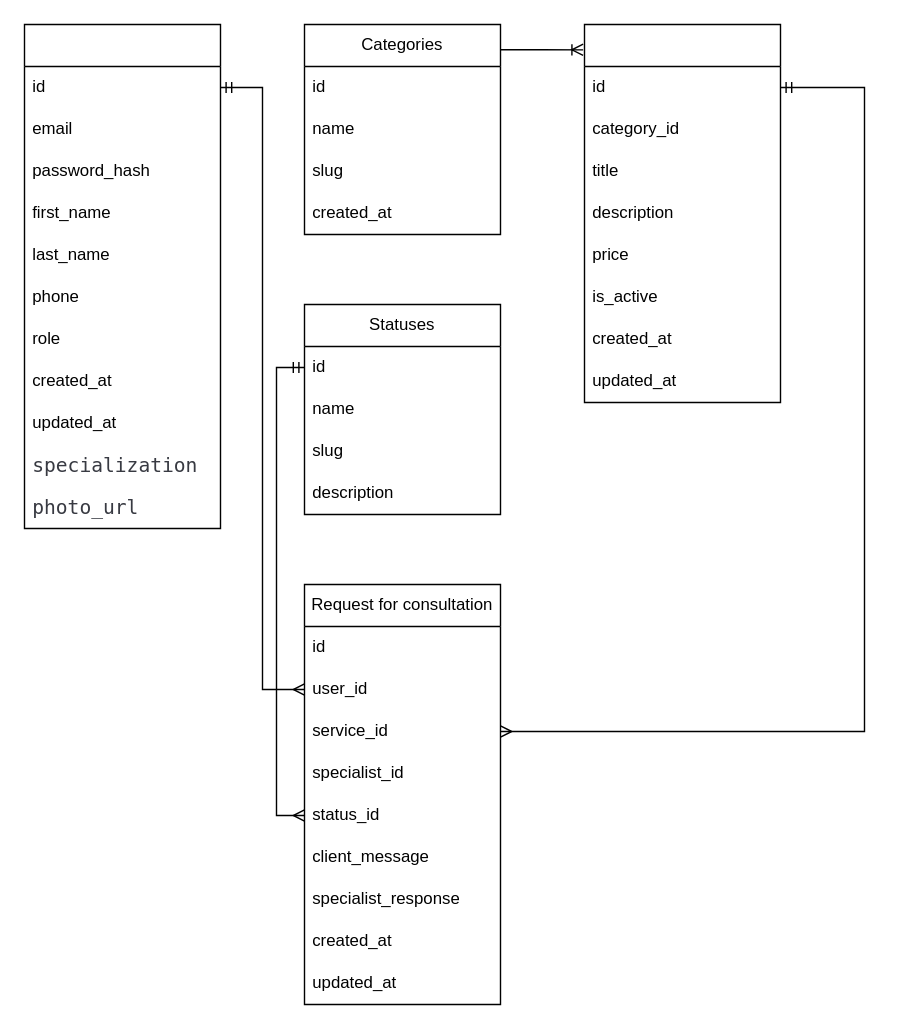
Some shapes in this 902 by 1029 pixel diagram are drawn without their labels. The shapes that lost their labels are listed below. From the top down, each one's box as (x1, y1, x2, y2) in pixels, then its label:
(583, 23, 780, 402): Services
(23, 23, 220, 528): Users
